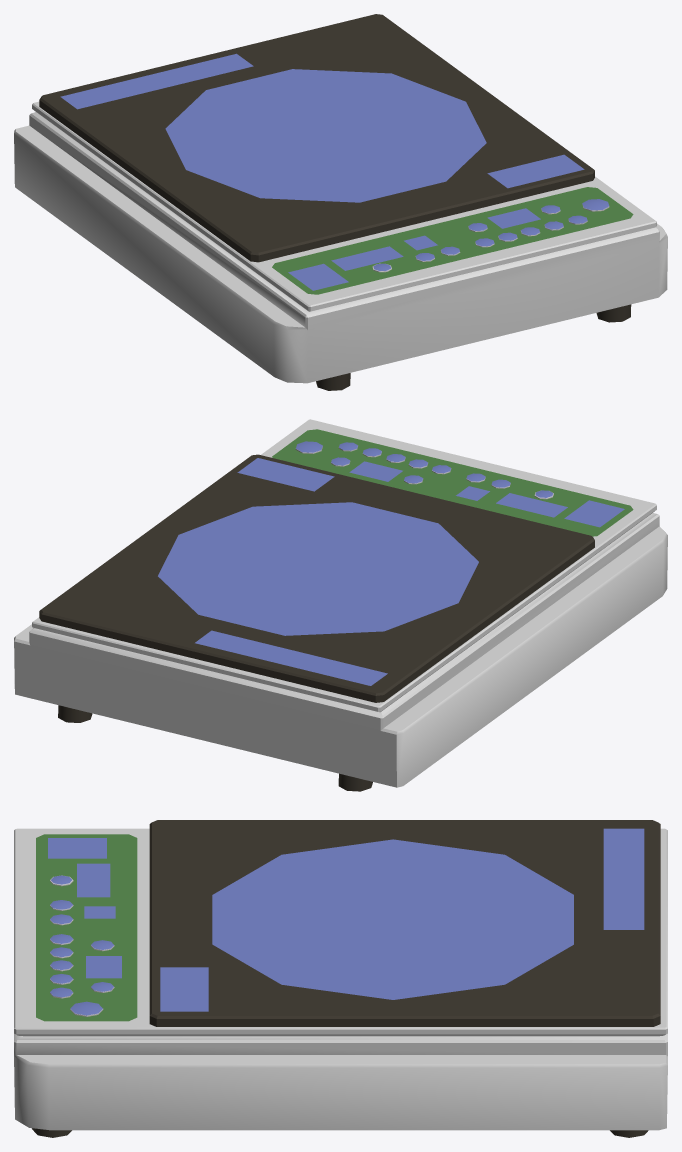
Rendered from SPTSRCH2008W.FBX.
3 views of the same model, one above another, from view 1: azimuth 30°, elevation 25°; view 2: azimuth 150°, elevation 25°; view 3: azimuth 270°, elevation 25° (orthographic). The views are drawn at different scales.
Parts seen in each view (by area): view 1: SPTSRCH2008W; view 2: SPTSRCH2008W; view 3: SPTSRCH2008W.
Part boxes in pixels (box(x1,y1,x2,y2)): SPTSRCH2008W: box(14, 14, 667, 390); SPTSRCH2008W: box(14, 419, 667, 791); SPTSRCH2008W: box(14, 820, 667, 1137).
Size of the model in its own units: 864 by 229 by 1067.
